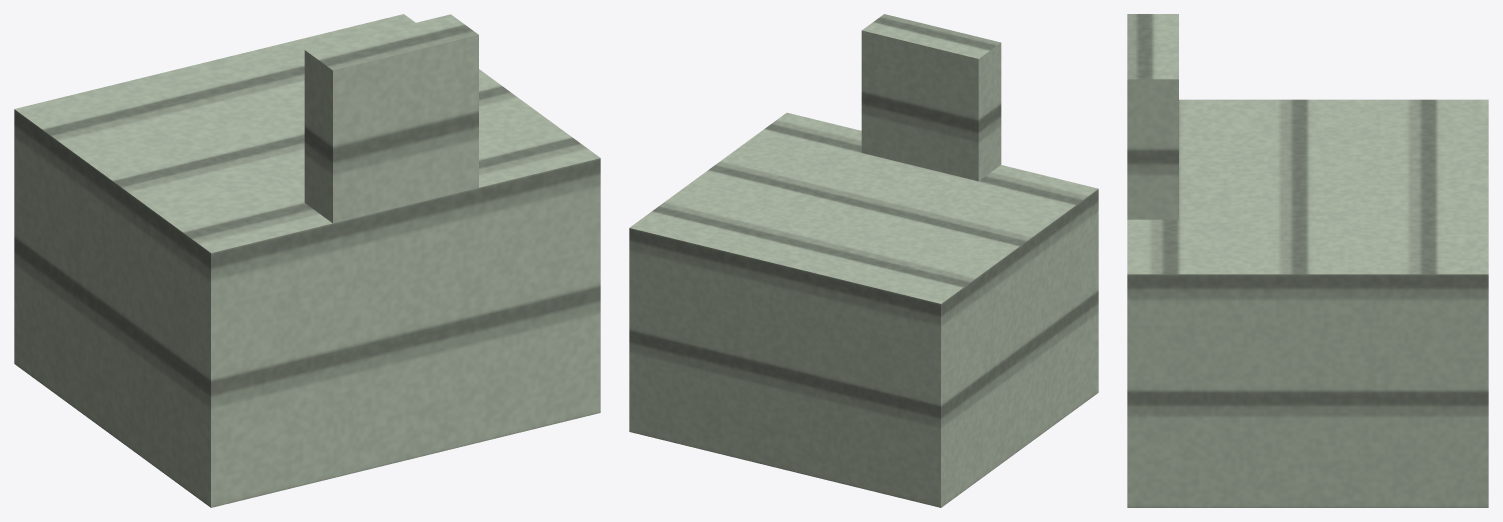
The model's file is cash_register.glb.
The picture shows the model from 3 angles, left to right: view 1: azimuth 30°, elevation 25°; view 2: azimuth 150°, elevation 25°; view 3: azimuth 270°, elevation 25°; orthographic projection. The views are drawn at different scales.
Parts seen in each view (by area): view 1: cash_register-col; view 2: cash_register-col; view 3: cash_register-col.
Boxes of the visible parts, <box> form: cash_register-col: <box>14,14,600,507</box>; cash_register-col: <box>629,14,1098,507</box>; cash_register-col: <box>1127,14,1488,507</box>.
Bounding box in the file's own units: 0.4 × 0.4 × 0.35.
Materials: 1 (1 with a texture image).
